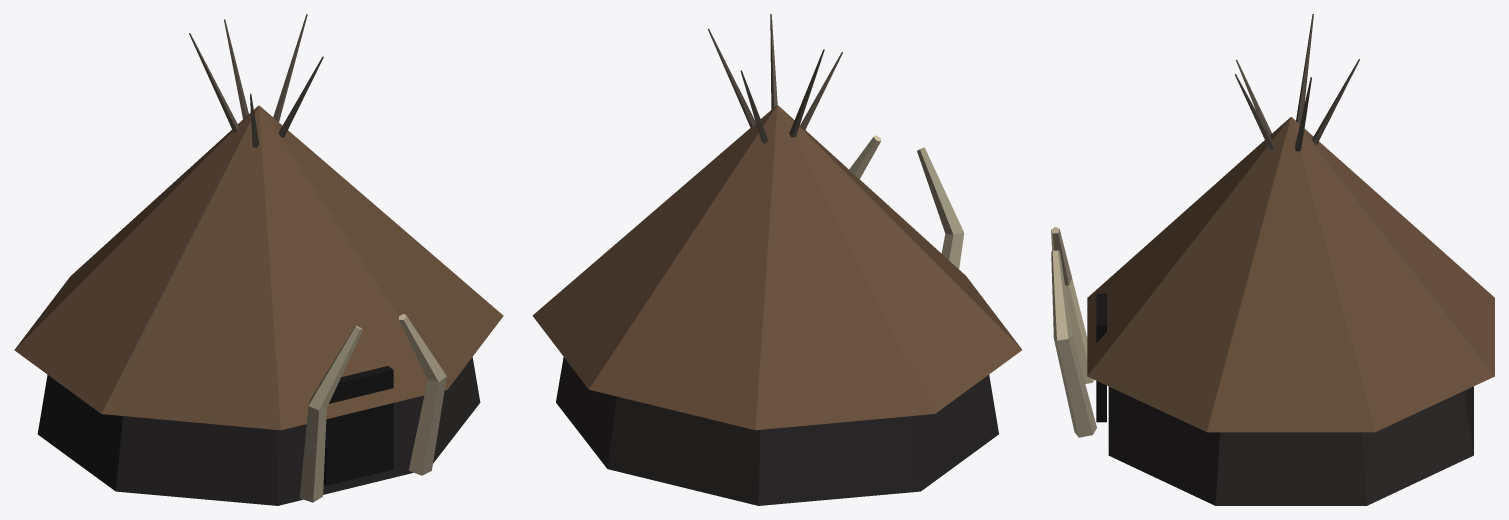
Rendered from orc_hut.glb.
The picture shows the model from 3 angles, left to right: view 1: azimuth 30°, elevation 25°; view 2: azimuth 150°, elevation 25°; view 3: azimuth 270°, elevation 25°; orthographic projection. The views are drawn at different scales.
Parts seen in each view (by area): view 1: orc_hut; view 2: orc_hut; view 3: orc_hut.
Boxes of the visible parts, box(x1,y1,x2,y2) form: orc_hut: box(14, 14, 503, 505); orc_hut: box(532, 14, 1021, 505); orc_hut: box(1051, 14, 1494, 505).
Size of the model in its own units: 5.91 by 5.49 by 5.84.
1 material, 1 textured.
